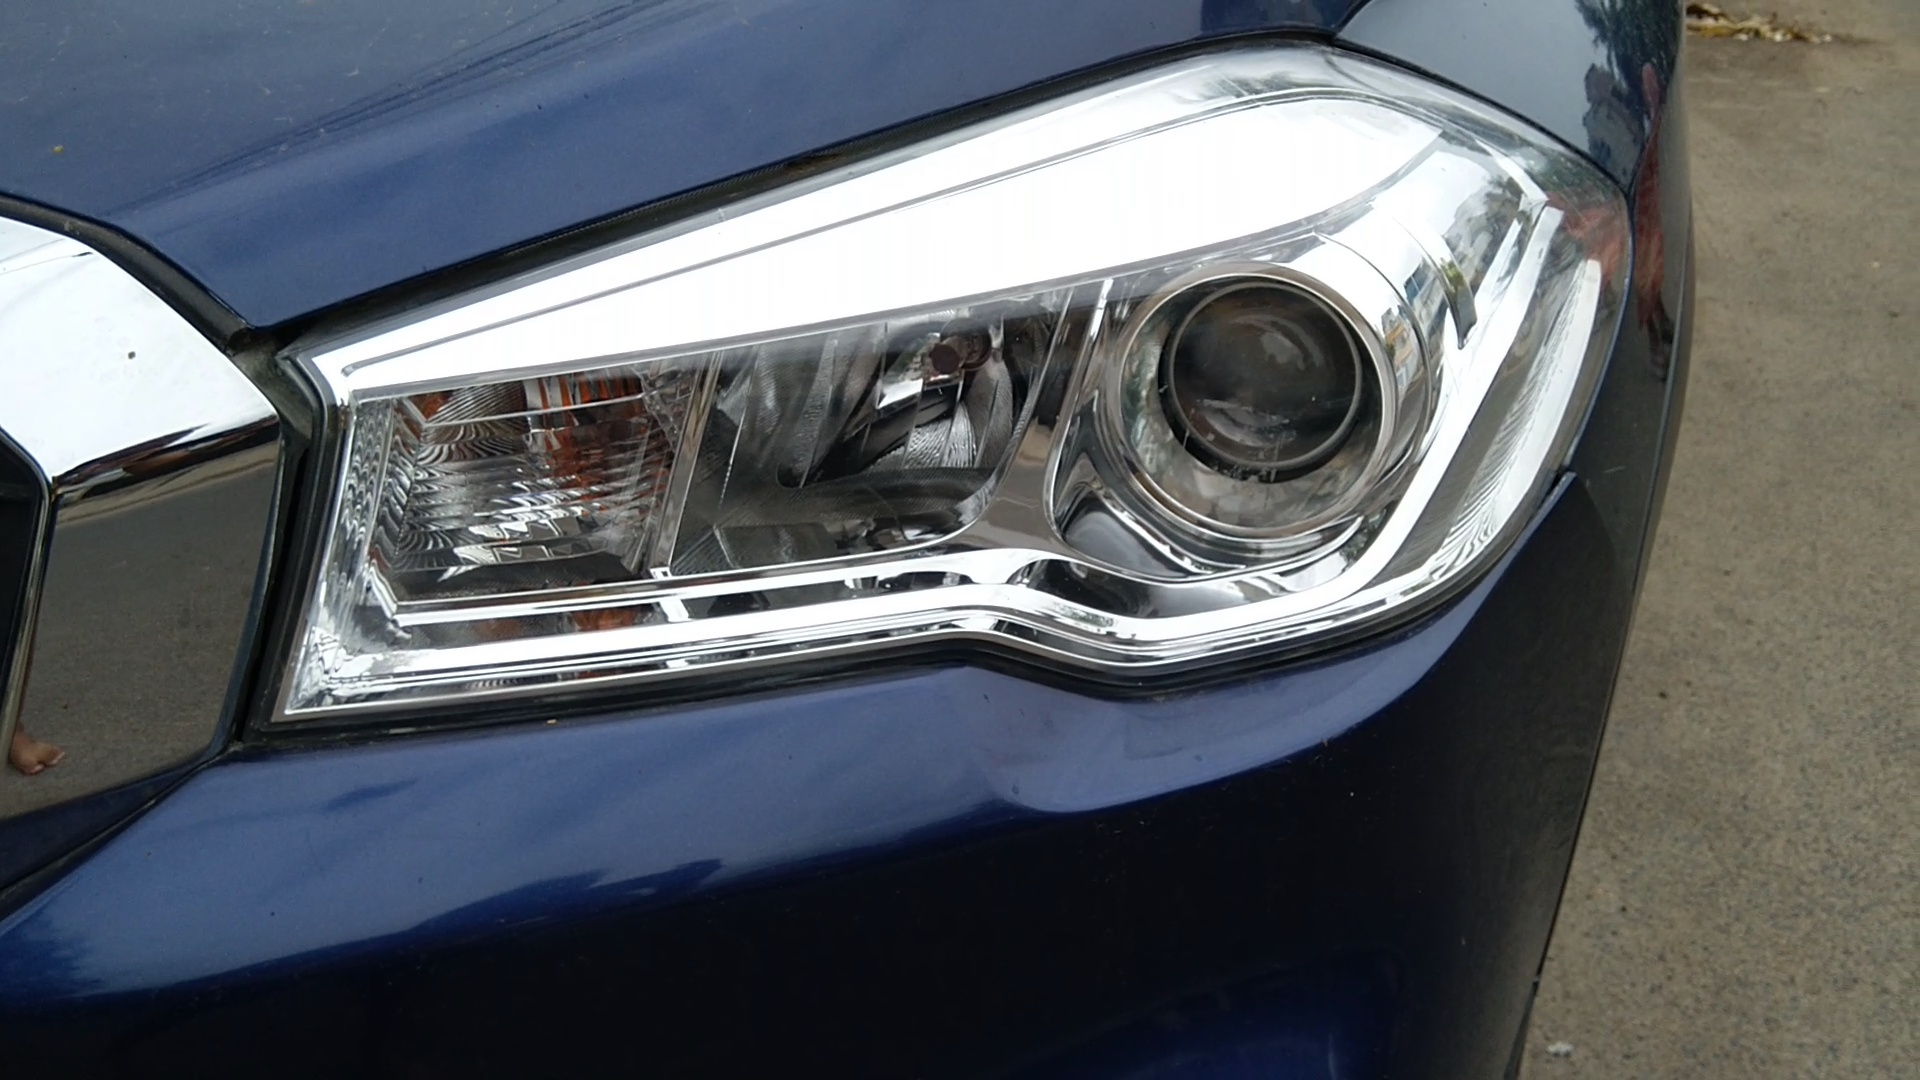headlamp: (211, 22, 1639, 890)
